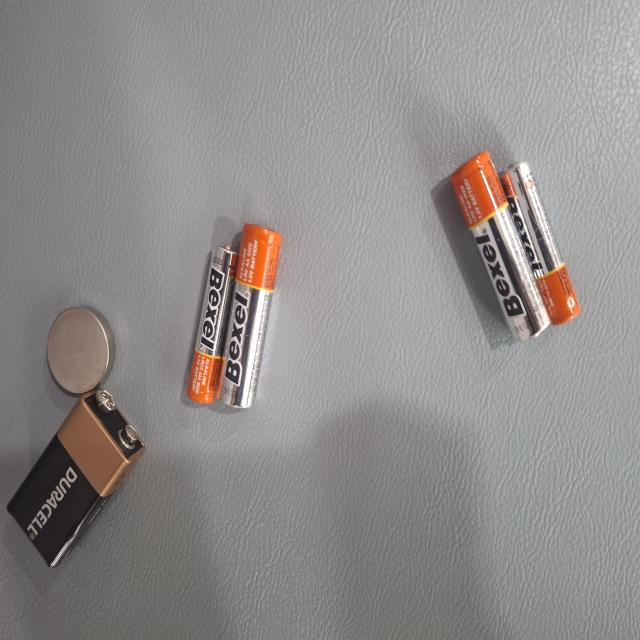AA: (114, 120, 256, 252), (168, 479, 306, 564)
AAA: (122, 83, 246, 184), (181, 534, 303, 604)
